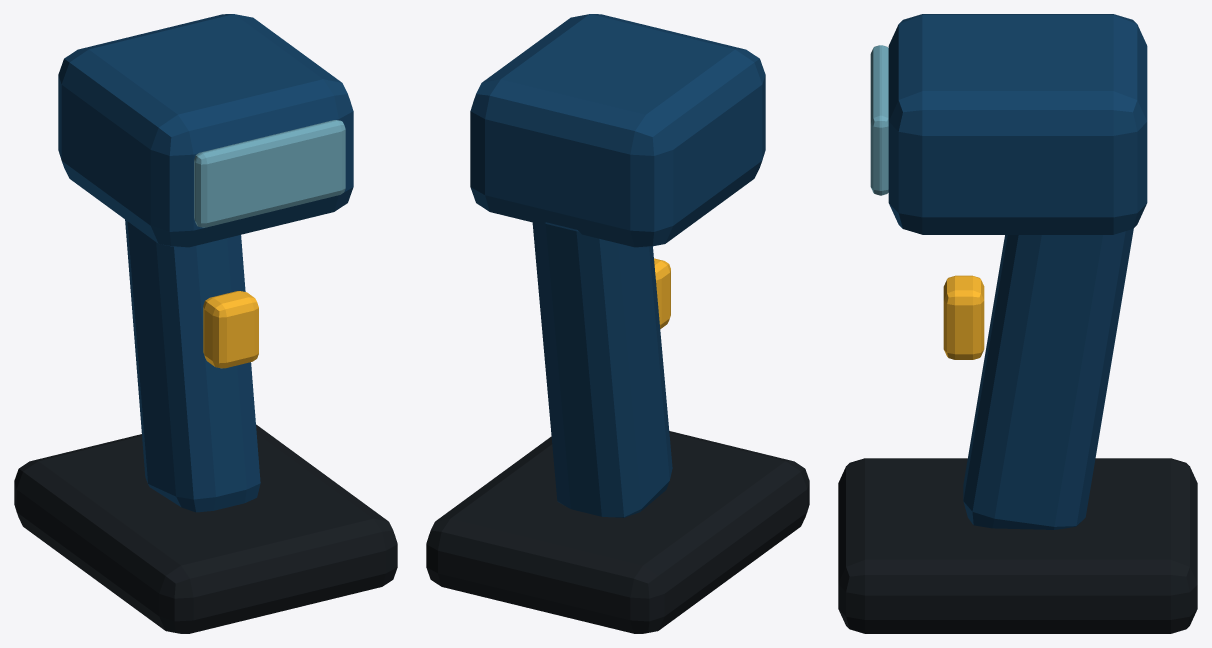
3 views of the same model, side by side, from view 1: azimuth 30°, elevation 25°; view 2: azimuth 150°, elevation 25°; view 3: azimuth 270°, elevation 25° (orthographic). The views are drawn at different scales.
Visible parts, largest first — view 1: STAND_Base, SCAN_Head, GRIP_Handle, SCAN_Window, TRIGGER_Button; view 2: SCAN_Head, STAND_Base, GRIP_Handle, TRIGGER_Button; view 3: SCAN_Head, STAND_Base, GRIP_Handle, TRIGGER_Button, SCAN_Window.
Part boxes in pixels (x1,y1,x2,y2): STAND_Base: (14,424,397,633); SCAN_Head: (58,14,353,247); GRIP_Handle: (125,219,260,512); SCAN_Window: (194,120,345,227); TRIGGER_Button: (203,291,258,368); SCAN_Head: (470,14,765,247); STAND_Base: (426,431,809,633); GRIP_Handle: (532,222,672,517); TRIGGER_Button: (654,258,670,328); SCAN_Head: (888,14,1147,234); STAND_Base: (838,458,1197,633); GRIP_Handle: (963,228,1133,529); TRIGGER_Button: (943,275,984,359); SCAN_Window: (870,45,888,195).
Size of the model in its own units: 0.13 by 0.26 by 0.16.
